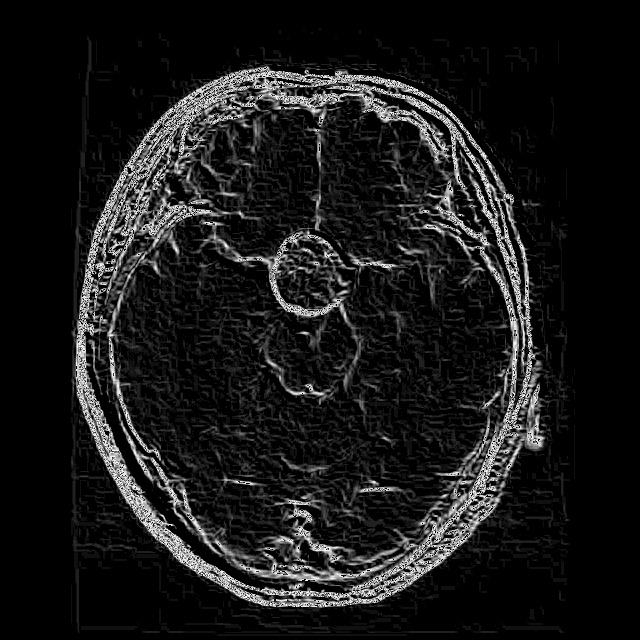Brain-Tumor: (260, 210, 362, 326)
